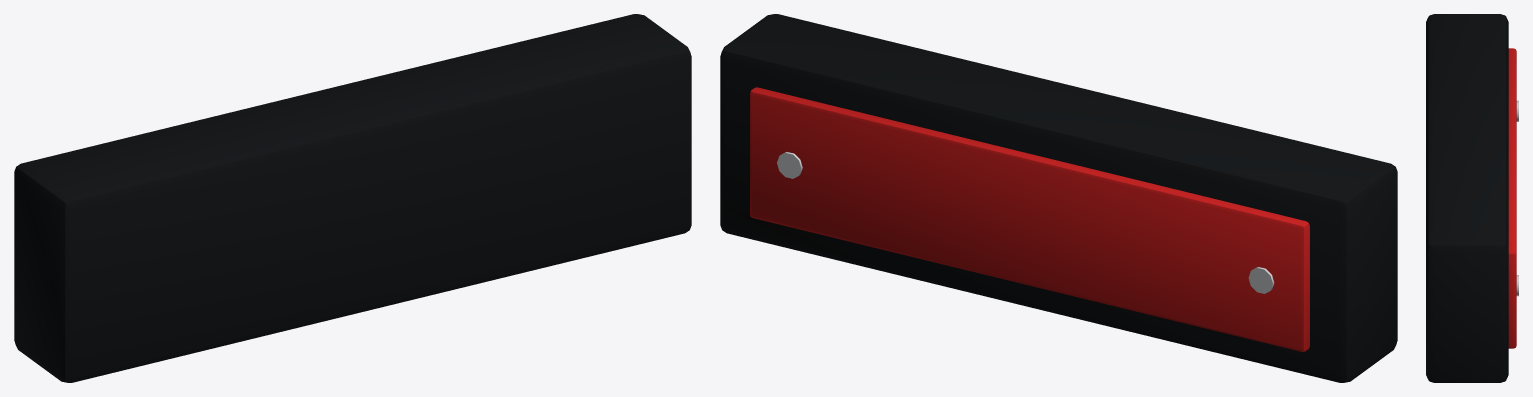
File: DT47_rain_light.glb
The picture shows the model from 3 angles, left to right: view 1: azimuth 30°, elevation 25°; view 2: azimuth 150°, elevation 25°; view 3: azimuth 270°, elevation 25°; orthographic projection. The views are drawn at different scales.
Parts seen in each view (by area): view 1: MOD_NA_DT47_housing; view 2: MOD_NA_DT47_housing, MOD_NA_DT47_lens; view 3: MOD_NA_DT47_housing, MOD_NA_DT47_lens.
Boxes of the visible parts, x1,y1,x2,y2 form: MOD_NA_DT47_housing: [14, 14, 691, 382]; MOD_NA_DT47_housing: [720, 14, 1397, 382]; MOD_NA_DT47_lens: [750, 87, 1309, 351]; MOD_NA_DT47_housing: [1426, 14, 1508, 382]; MOD_NA_DT47_lens: [1508, 48, 1516, 348].
Bounding box in the file's own units: 0.134 × 0.038 × 0.0225.
